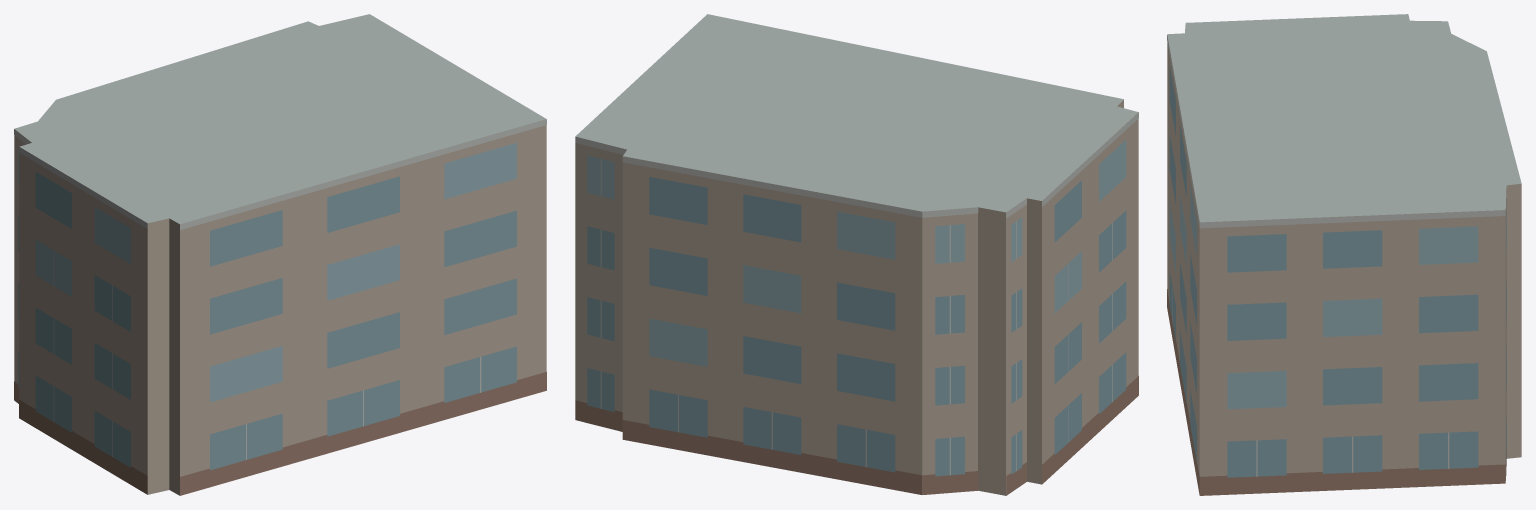
File: survey-upis-32898758.glb
3 views of the same model, side by side, from view 1: azimuth 30°, elevation 25°; view 2: azimuth 150°, elevation 25°; view 3: azimuth 270°, elevation 25° (orthographic). The views are drawn at different scales.
Parts seen in each view (by area): view 1: survey-upis-32898758.tmp; view 2: survey-upis-32898758.tmp; view 3: survey-upis-32898758.tmp.
Boxes of the visible parts, left/top/right/bottom form: survey-upis-32898758.tmp: left=14, top=14, right=546, bottom=495; survey-upis-32898758.tmp: left=575, top=14, right=1138, bottom=495; survey-upis-32898758.tmp: left=1167, top=14, right=1521, bottom=495.
Size of the model in its own units: 18.31 by 11.2 by 13.17.
